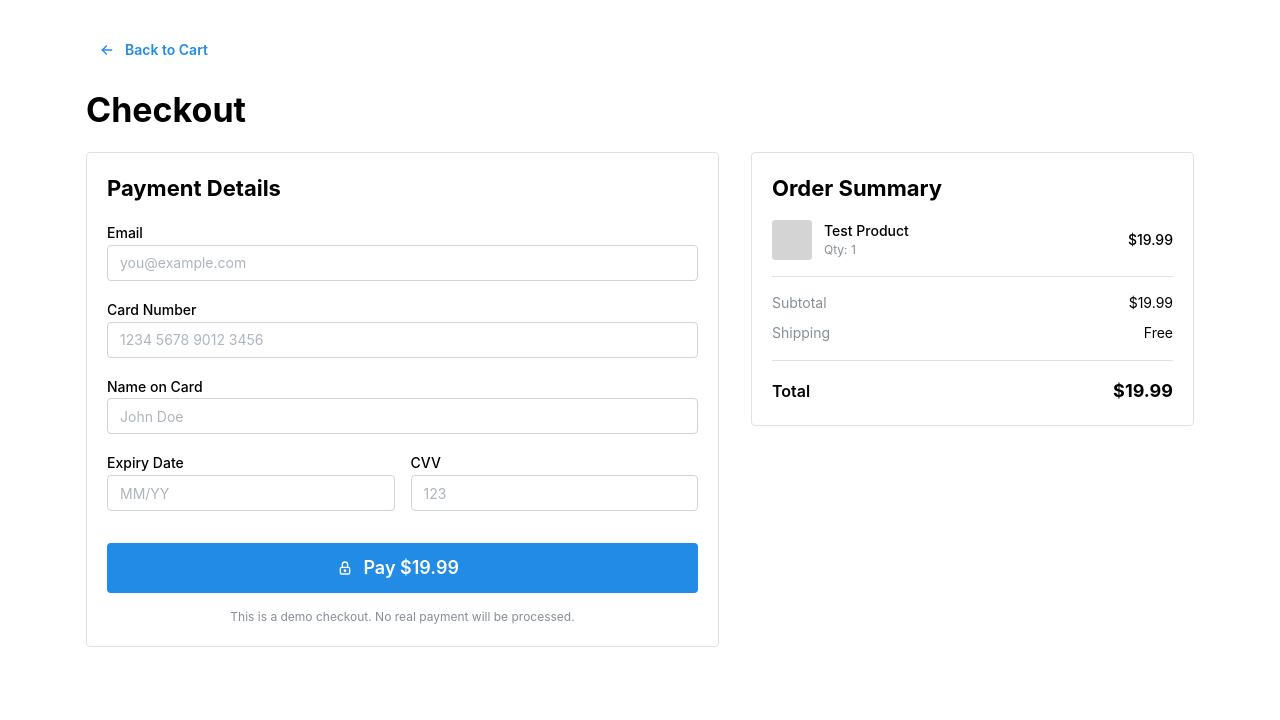
Checkout Page › Payment Form › shows validation error for invalid email
Type "invalid-email" into the field labelled "Email" at (402, 263), box [107, 245, 698, 281]
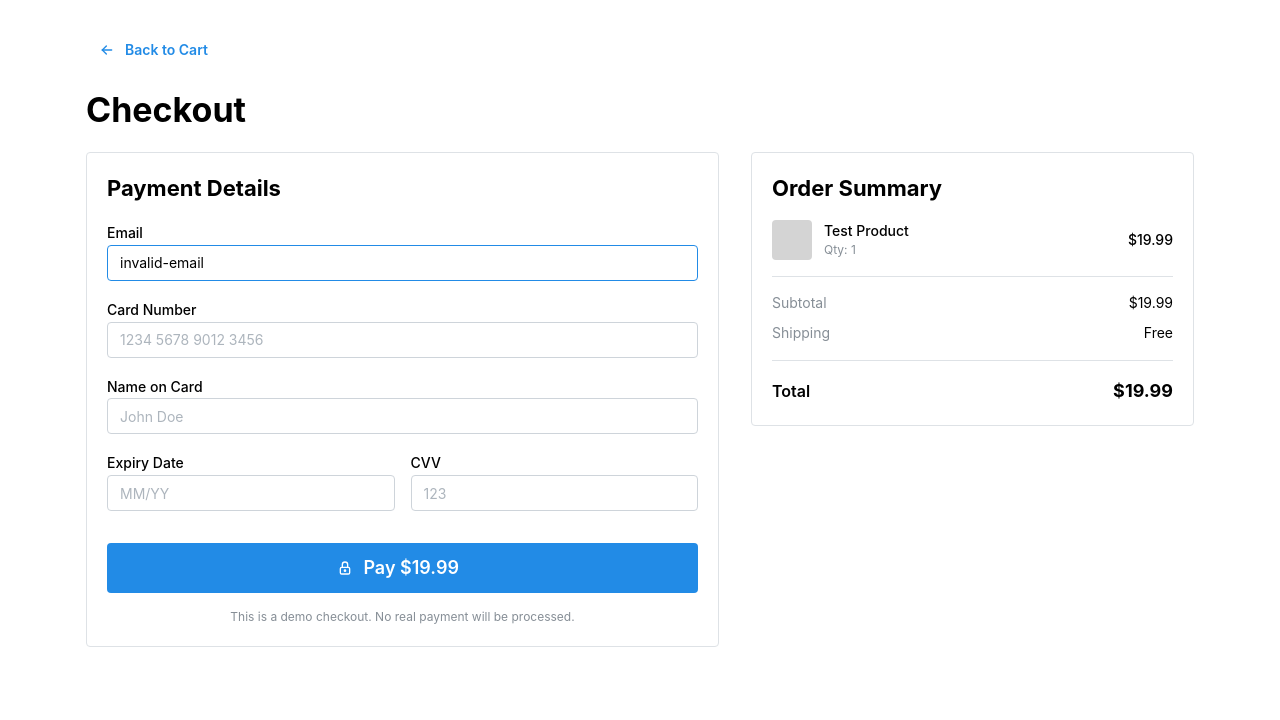
Click the button "Pay $19.99" at (402, 568), box [107, 543, 698, 593]
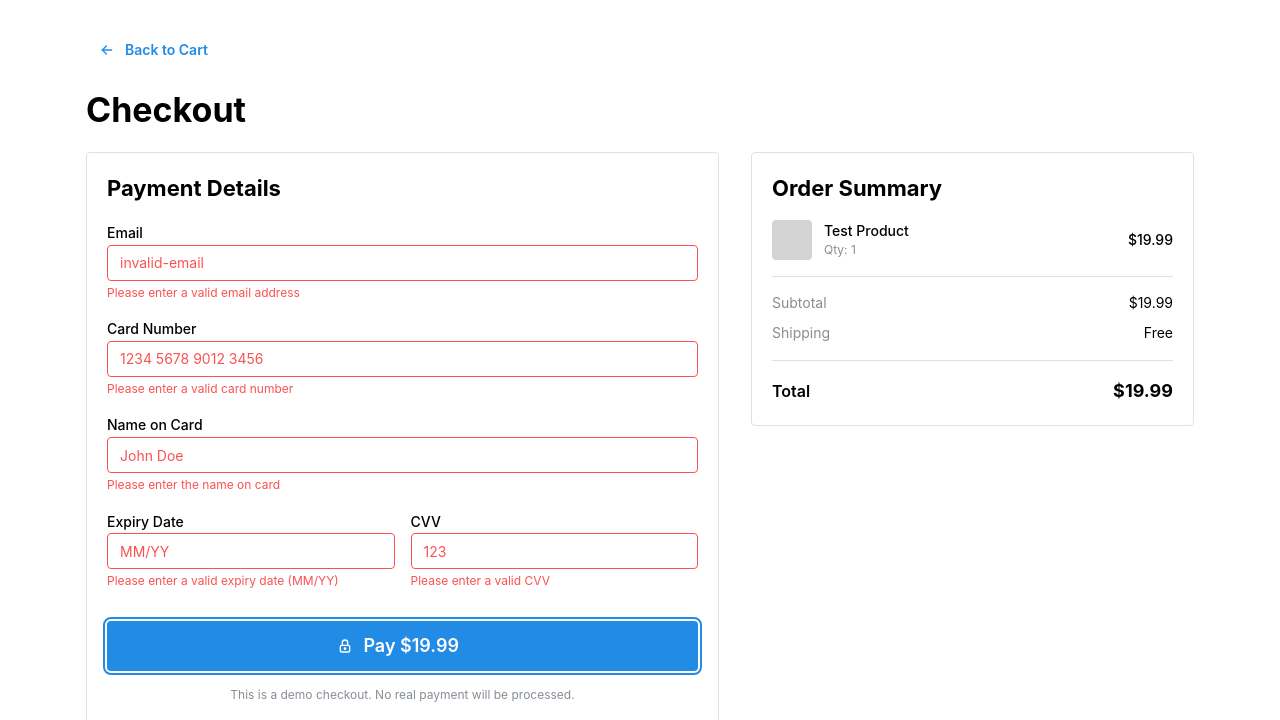
expect the text "Please enter a valid email address" is shown: met, box [107, 285, 300, 300]
